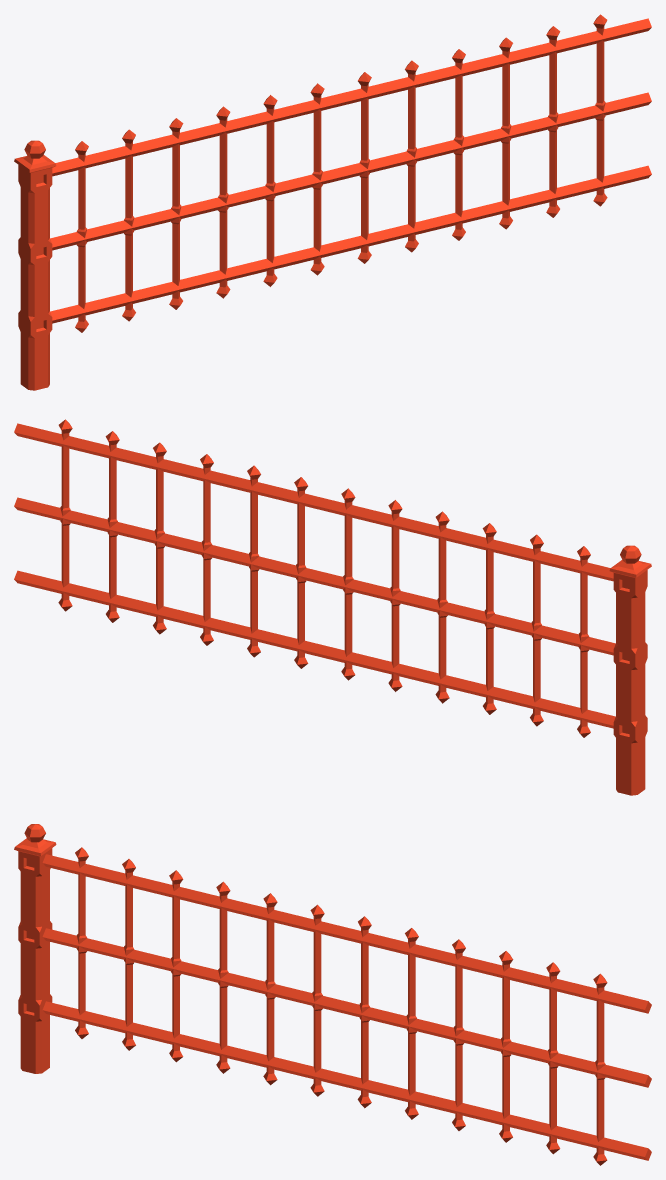
Rendered from SM_Fence_Small_3m_City.fbx.
The picture shows the model from 3 angles, top to bottom: view 1: azimuth 30°, elevation 25°; view 2: azimuth 150°, elevation 25°; view 3: azimuth 330°, elevation 25°; orthographic projection.
Parts seen in each view (by area): view 1: SM_Fence_Small_3m_City; view 2: SM_Fence_Small_3m_City; view 3: SM_Fence_Small_3m_City.
Boxes of the visible parts, box(x1,y1,x2,y2) form: SM_Fence_Small_3m_City: box(14, 14, 651, 390); SM_Fence_Small_3m_City: box(14, 419, 651, 795); SM_Fence_Small_3m_City: box(14, 824, 651, 1165).
Size of the model in its own units: 3.07 by 1.14 by 0.1319.
